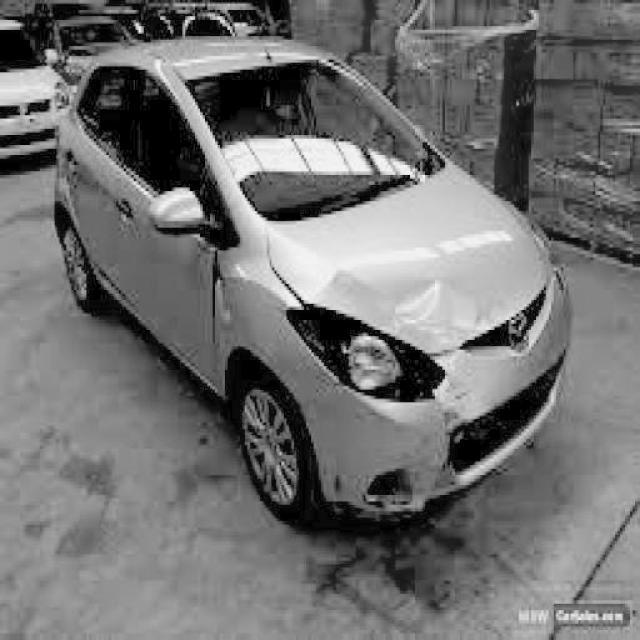car damage: (301, 267, 481, 514), (207, 250, 231, 354)
